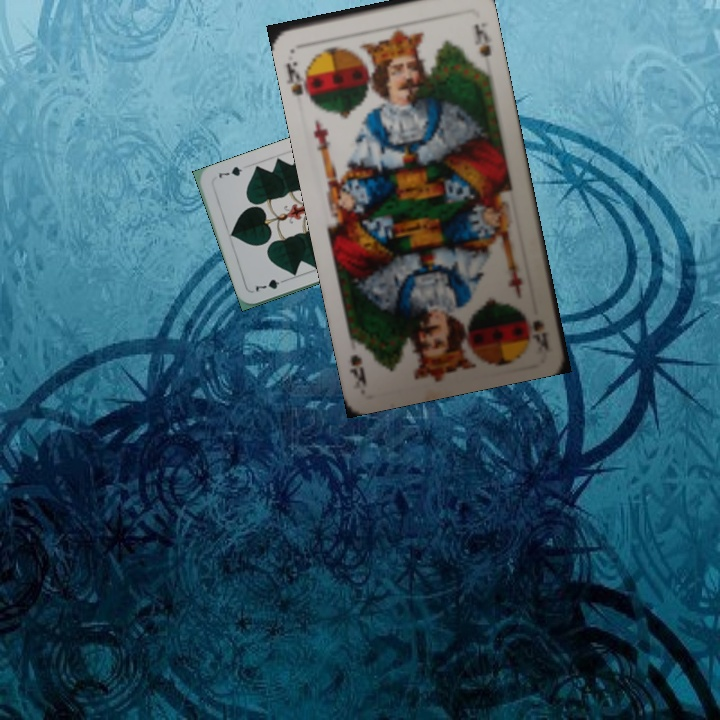G7: (251, 275, 290, 295)
SK: (282, 57, 315, 102), (528, 316, 551, 352)
